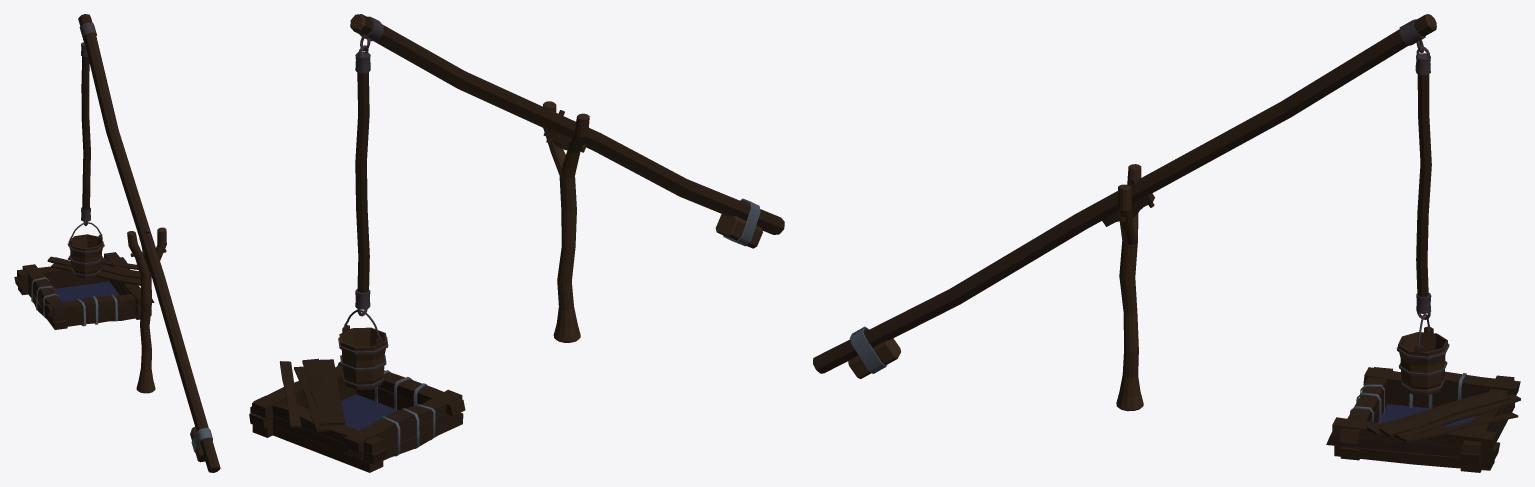
Rendered from Water_hole.fbx.
3 views of the same model, side by side, from view 1: azimuth 30°, elevation 25°; view 2: azimuth 150°, elevation 25°; view 3: azimuth 270°, elevation 25° (orthographic). The views are drawn at different scales.
Parts seen in each view (by area): view 1: juravl, well, tree, vedro, Plane.001, metal.001, holder.003; view 2: well, juravl, tree, vedro, metal.001, Plane.001, holder.003; view 3: juravl, well, tree, vedro, metal.001, holder.003.
Part boxes in pixels (x1,y1,x2,y2): juravl: [78, 14, 220, 472]; well: [14, 252, 154, 329]; tree: [127, 227, 205, 462]; vedro: [67, 222, 104, 278]; Plane.001: [55, 281, 119, 301]; metal.001: [31, 277, 212, 452]; holder.003: [79, 22, 96, 225]; well: [249, 358, 465, 472]; juravl: [350, 14, 784, 292]; tree: [543, 101, 762, 342]; vedro: [338, 310, 388, 389]; metal.001: [374, 198, 760, 456]; Plane.001: [341, 394, 397, 429]; holder.003: [355, 16, 383, 316]; juravl: [813, 14, 1436, 373]; well: [1326, 367, 1520, 472]; tree: [848, 164, 1143, 411]; vedro: [1396, 313, 1449, 395]; metal.001: [849, 326, 1466, 423]; holder.003: [1399, 19, 1431, 319].
Bounding box in the file's own units: 916 × 1693 × 2581.
